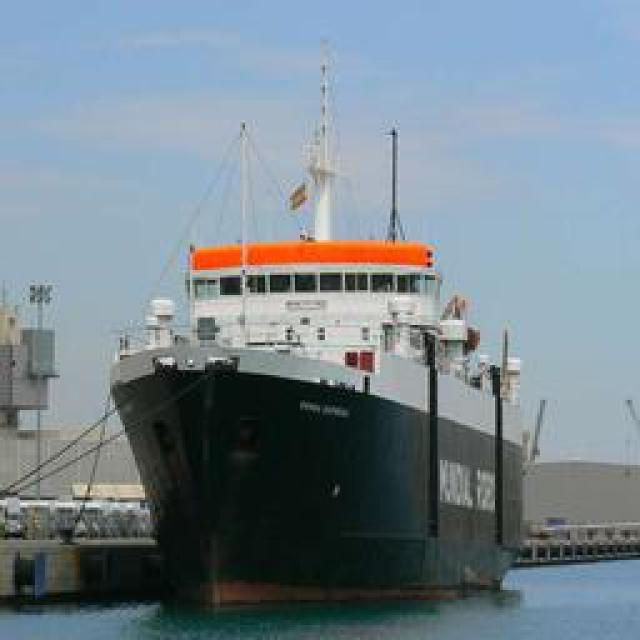Ship: (103, 72, 538, 612)
